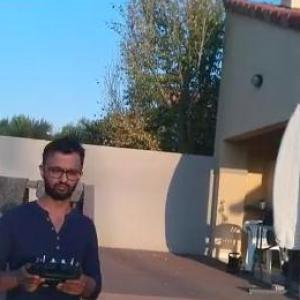follow: (0, 126, 109, 299)
